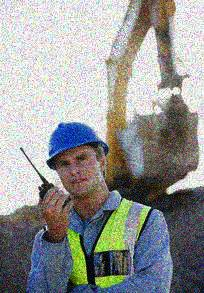helmet: (46, 121, 109, 199)
